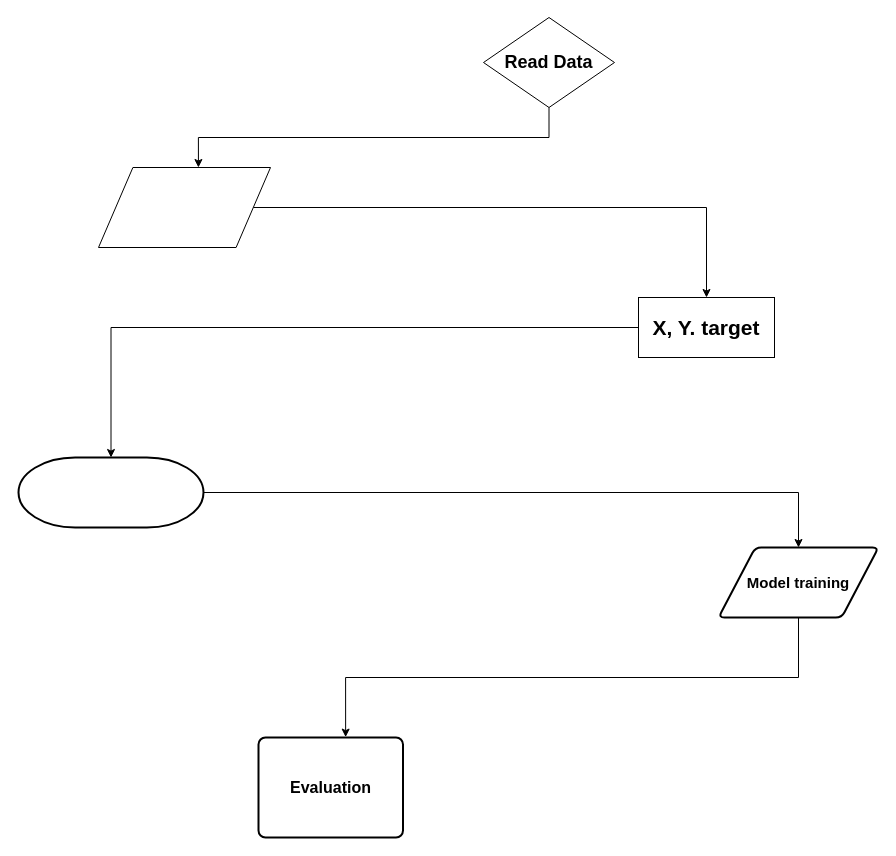
This 896x856 diagram has some shape labels left out. Each missing label, with the box of its shape:
E.D.A./ F.E.: (98, 166, 270, 248)
Train/Test Split: (17, 456, 204, 528)
